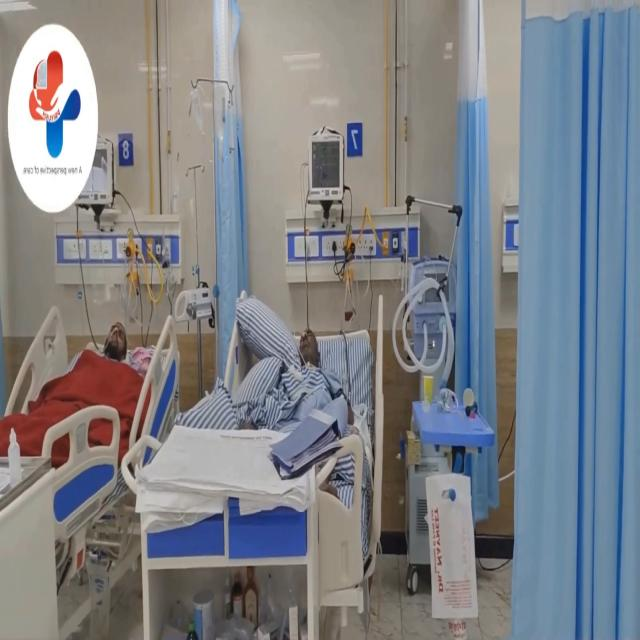Movement-NO: (259, 302, 340, 419)
